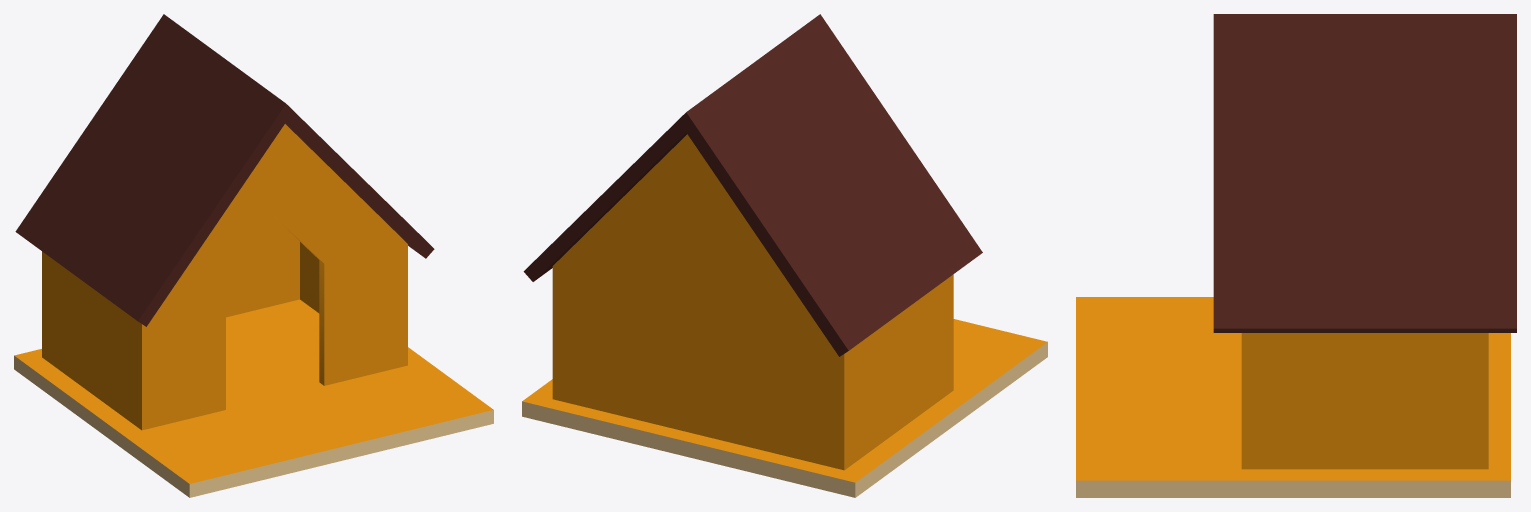
File: Hut.FBX
The picture shows the model from 3 angles, left to right: view 1: azimuth 30°, elevation 25°; view 2: azimuth 150°, elevation 25°; view 3: azimuth 270°, elevation 25°; orthographic projection. The views are drawn at different scales.
Visible parts, largest first — view 1: Hut; view 2: Hut; view 3: Hut.
Boxes of the visible parts, box(x1,y1,x2,y2) form: Hut: box(14, 14, 493, 497); Hut: box(522, 14, 1047, 497); Hut: box(1076, 14, 1516, 497).
Size of the model in its own units: 1.57 by 1.57 by 1.6.
Materials: 1 (1 with a texture image).
